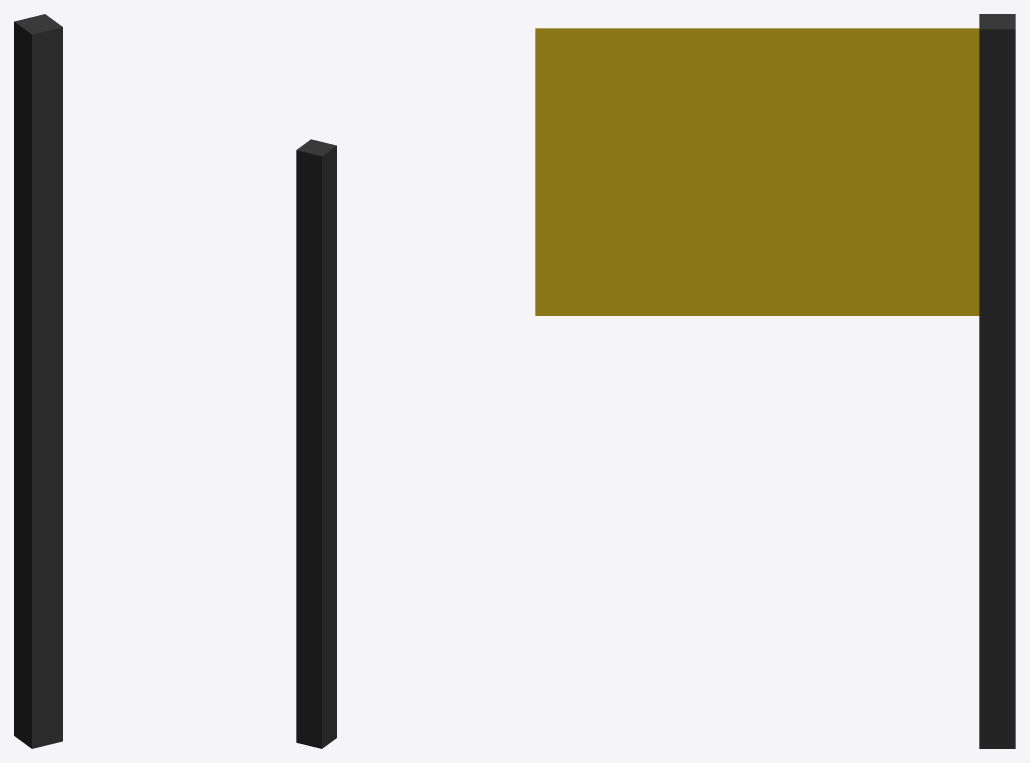
Rendered from flag_hand.glb.
3 renders of one model, left to right at view 1: azimuth 30°, elevation 25°; view 2: azimuth 150°, elevation 25°; view 3: azimuth 270°, elevation 25°, orthographic. The views are drawn at different scales.
Parts seen in each view (by area): view 1: flag_hand; view 2: flag_hand; view 3: flag_hand.
Boxes of the visible parts, left/top/right/bottom form: flag_hand: left=14, top=14, right=62, bottom=748; flag_hand: left=296, top=139, right=336, bottom=748; flag_hand: left=535, top=14, right=1015, bottom=748.
Size of the model in its own units: 0.025 by 0.55 by 0.3325.
